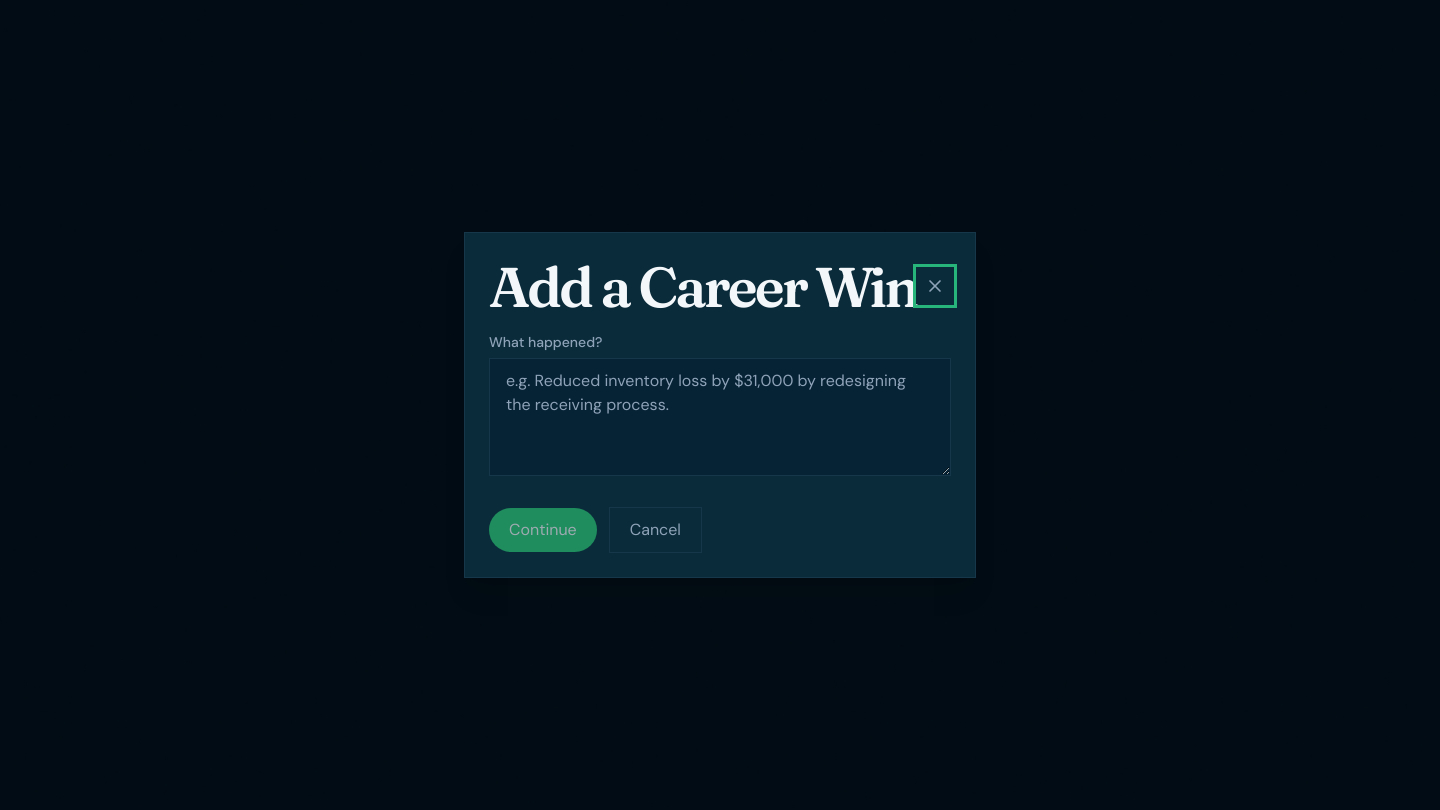
Scenario: AddCareerWinModal › surfaces a partial-failure message and does not call onSaved when confirmCapabilities errors (fix round 1: previously silently discarded)
Replace the text in the text box labelled "What happened?" with "Reduced inventory loss by $31,000." at (720,417), box [489,358,951,476]
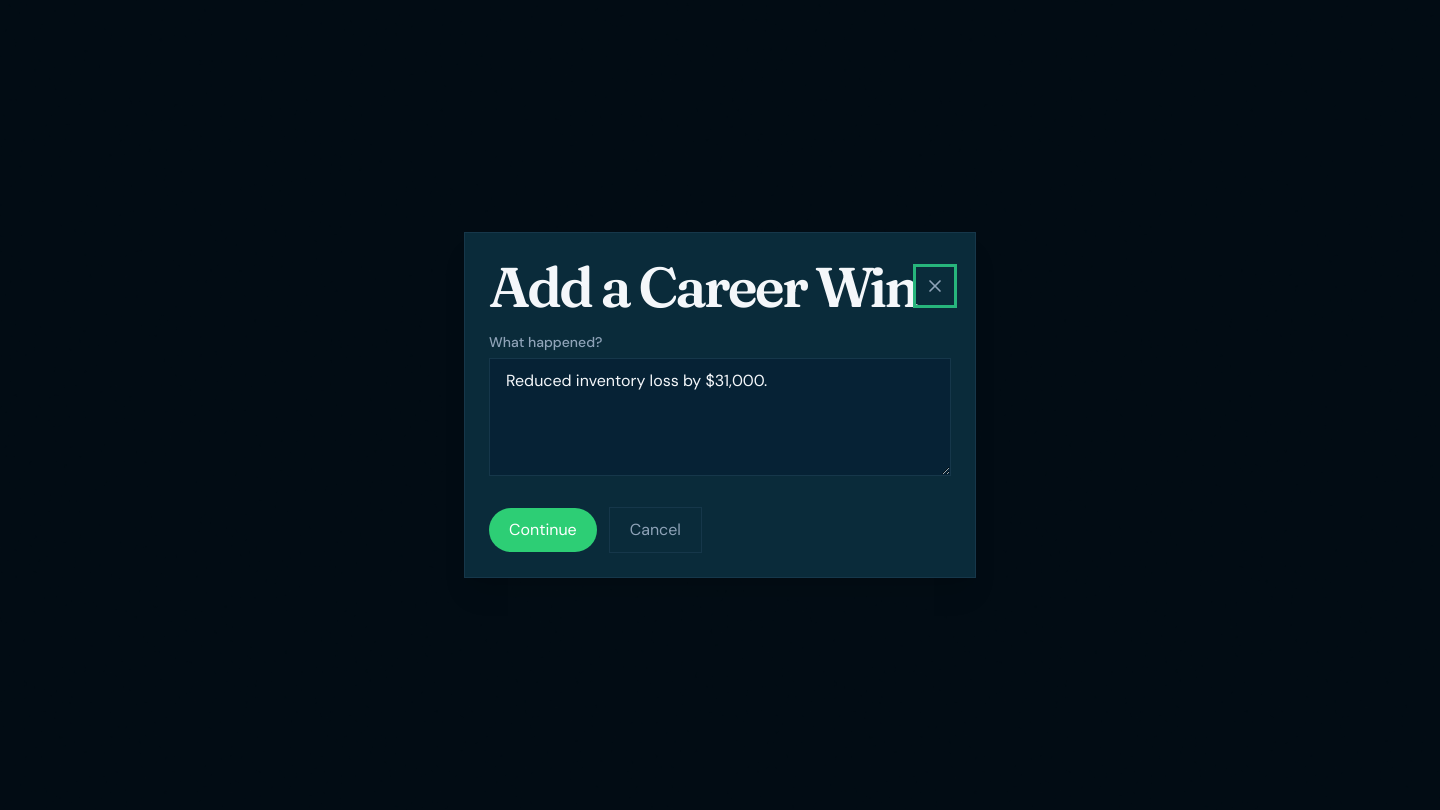
Click the button "Continue" at (543,530), box [489,508,597,552]
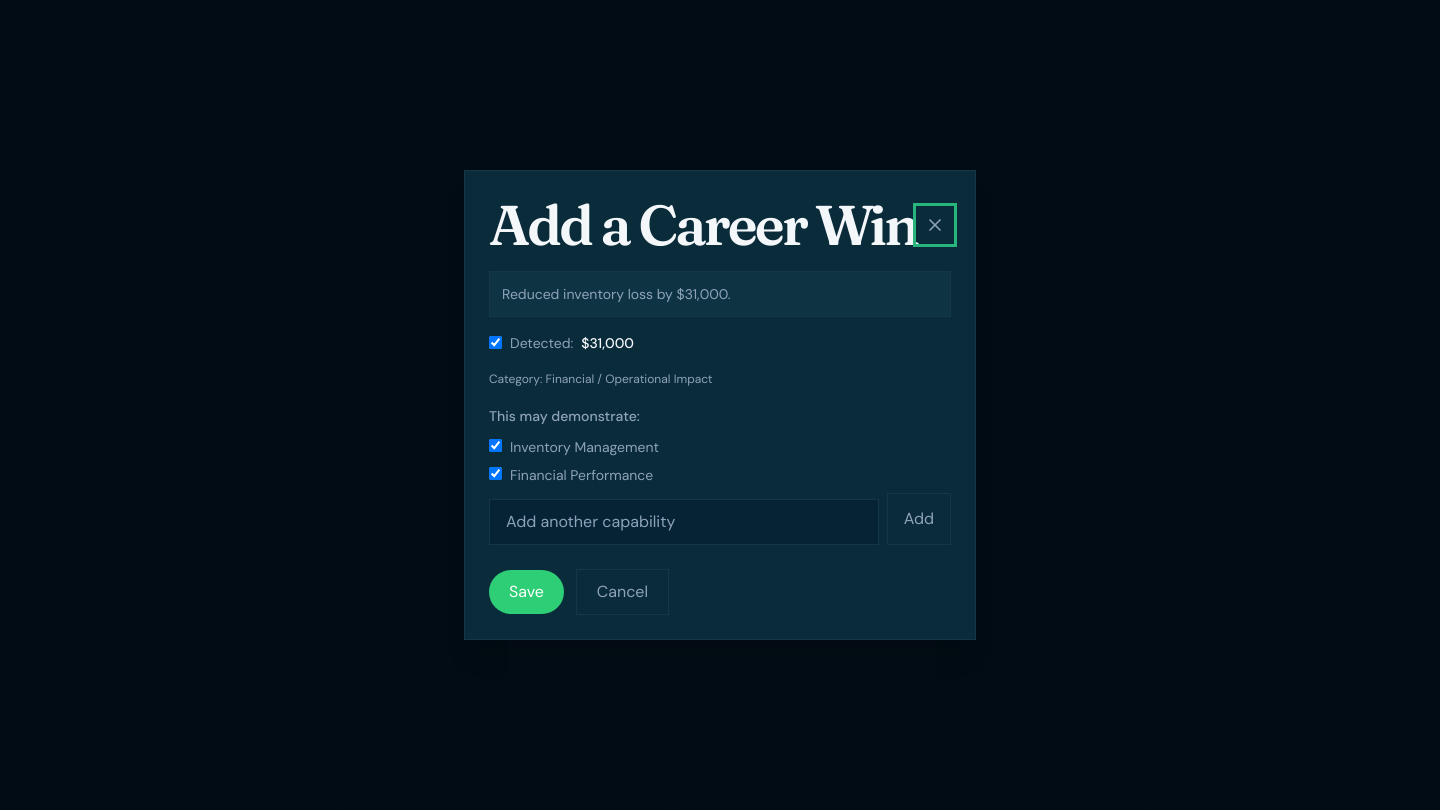
Result: the text "$31,000" is shown at [581,333,634,353]
Click the button "Save" at (526,592), box [489,570,564,614]
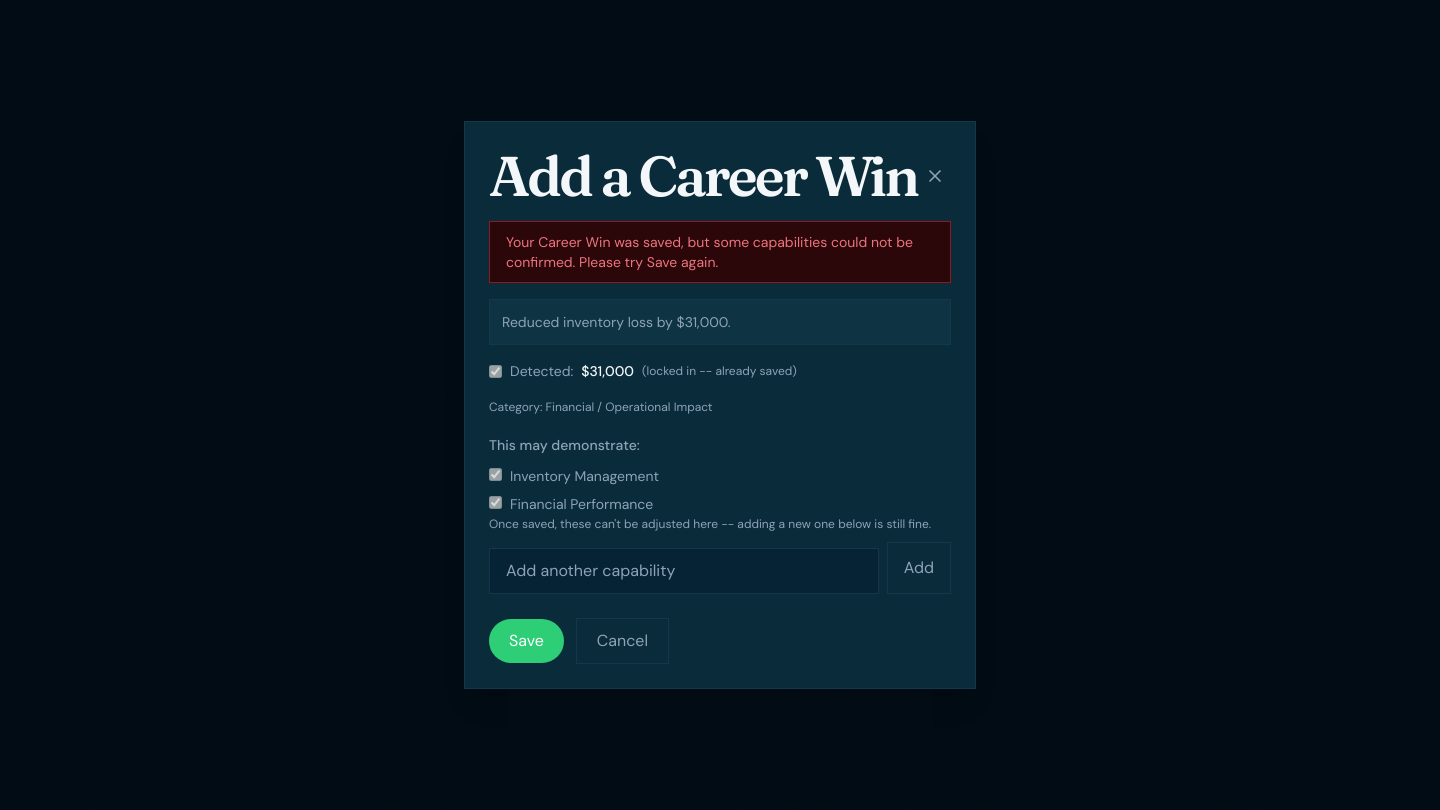
Result: the text "could not be confirmed" is shown at [506,233,913,271]
